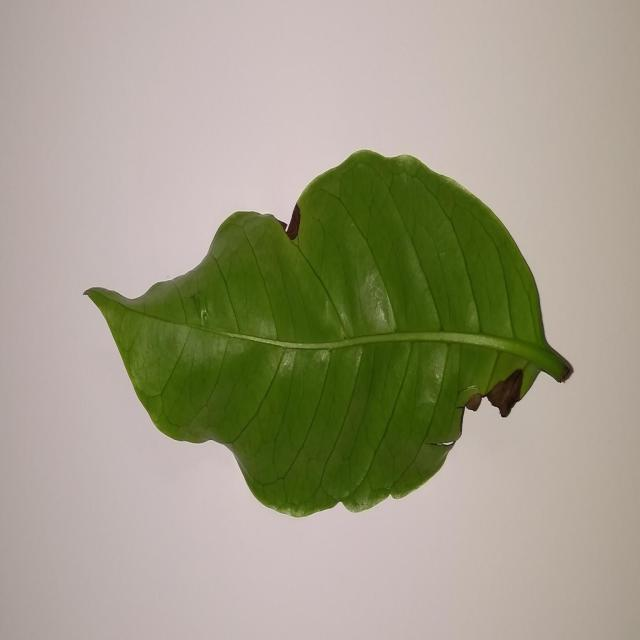Enfermedad-Antracnosis: (84, 151, 573, 520)
